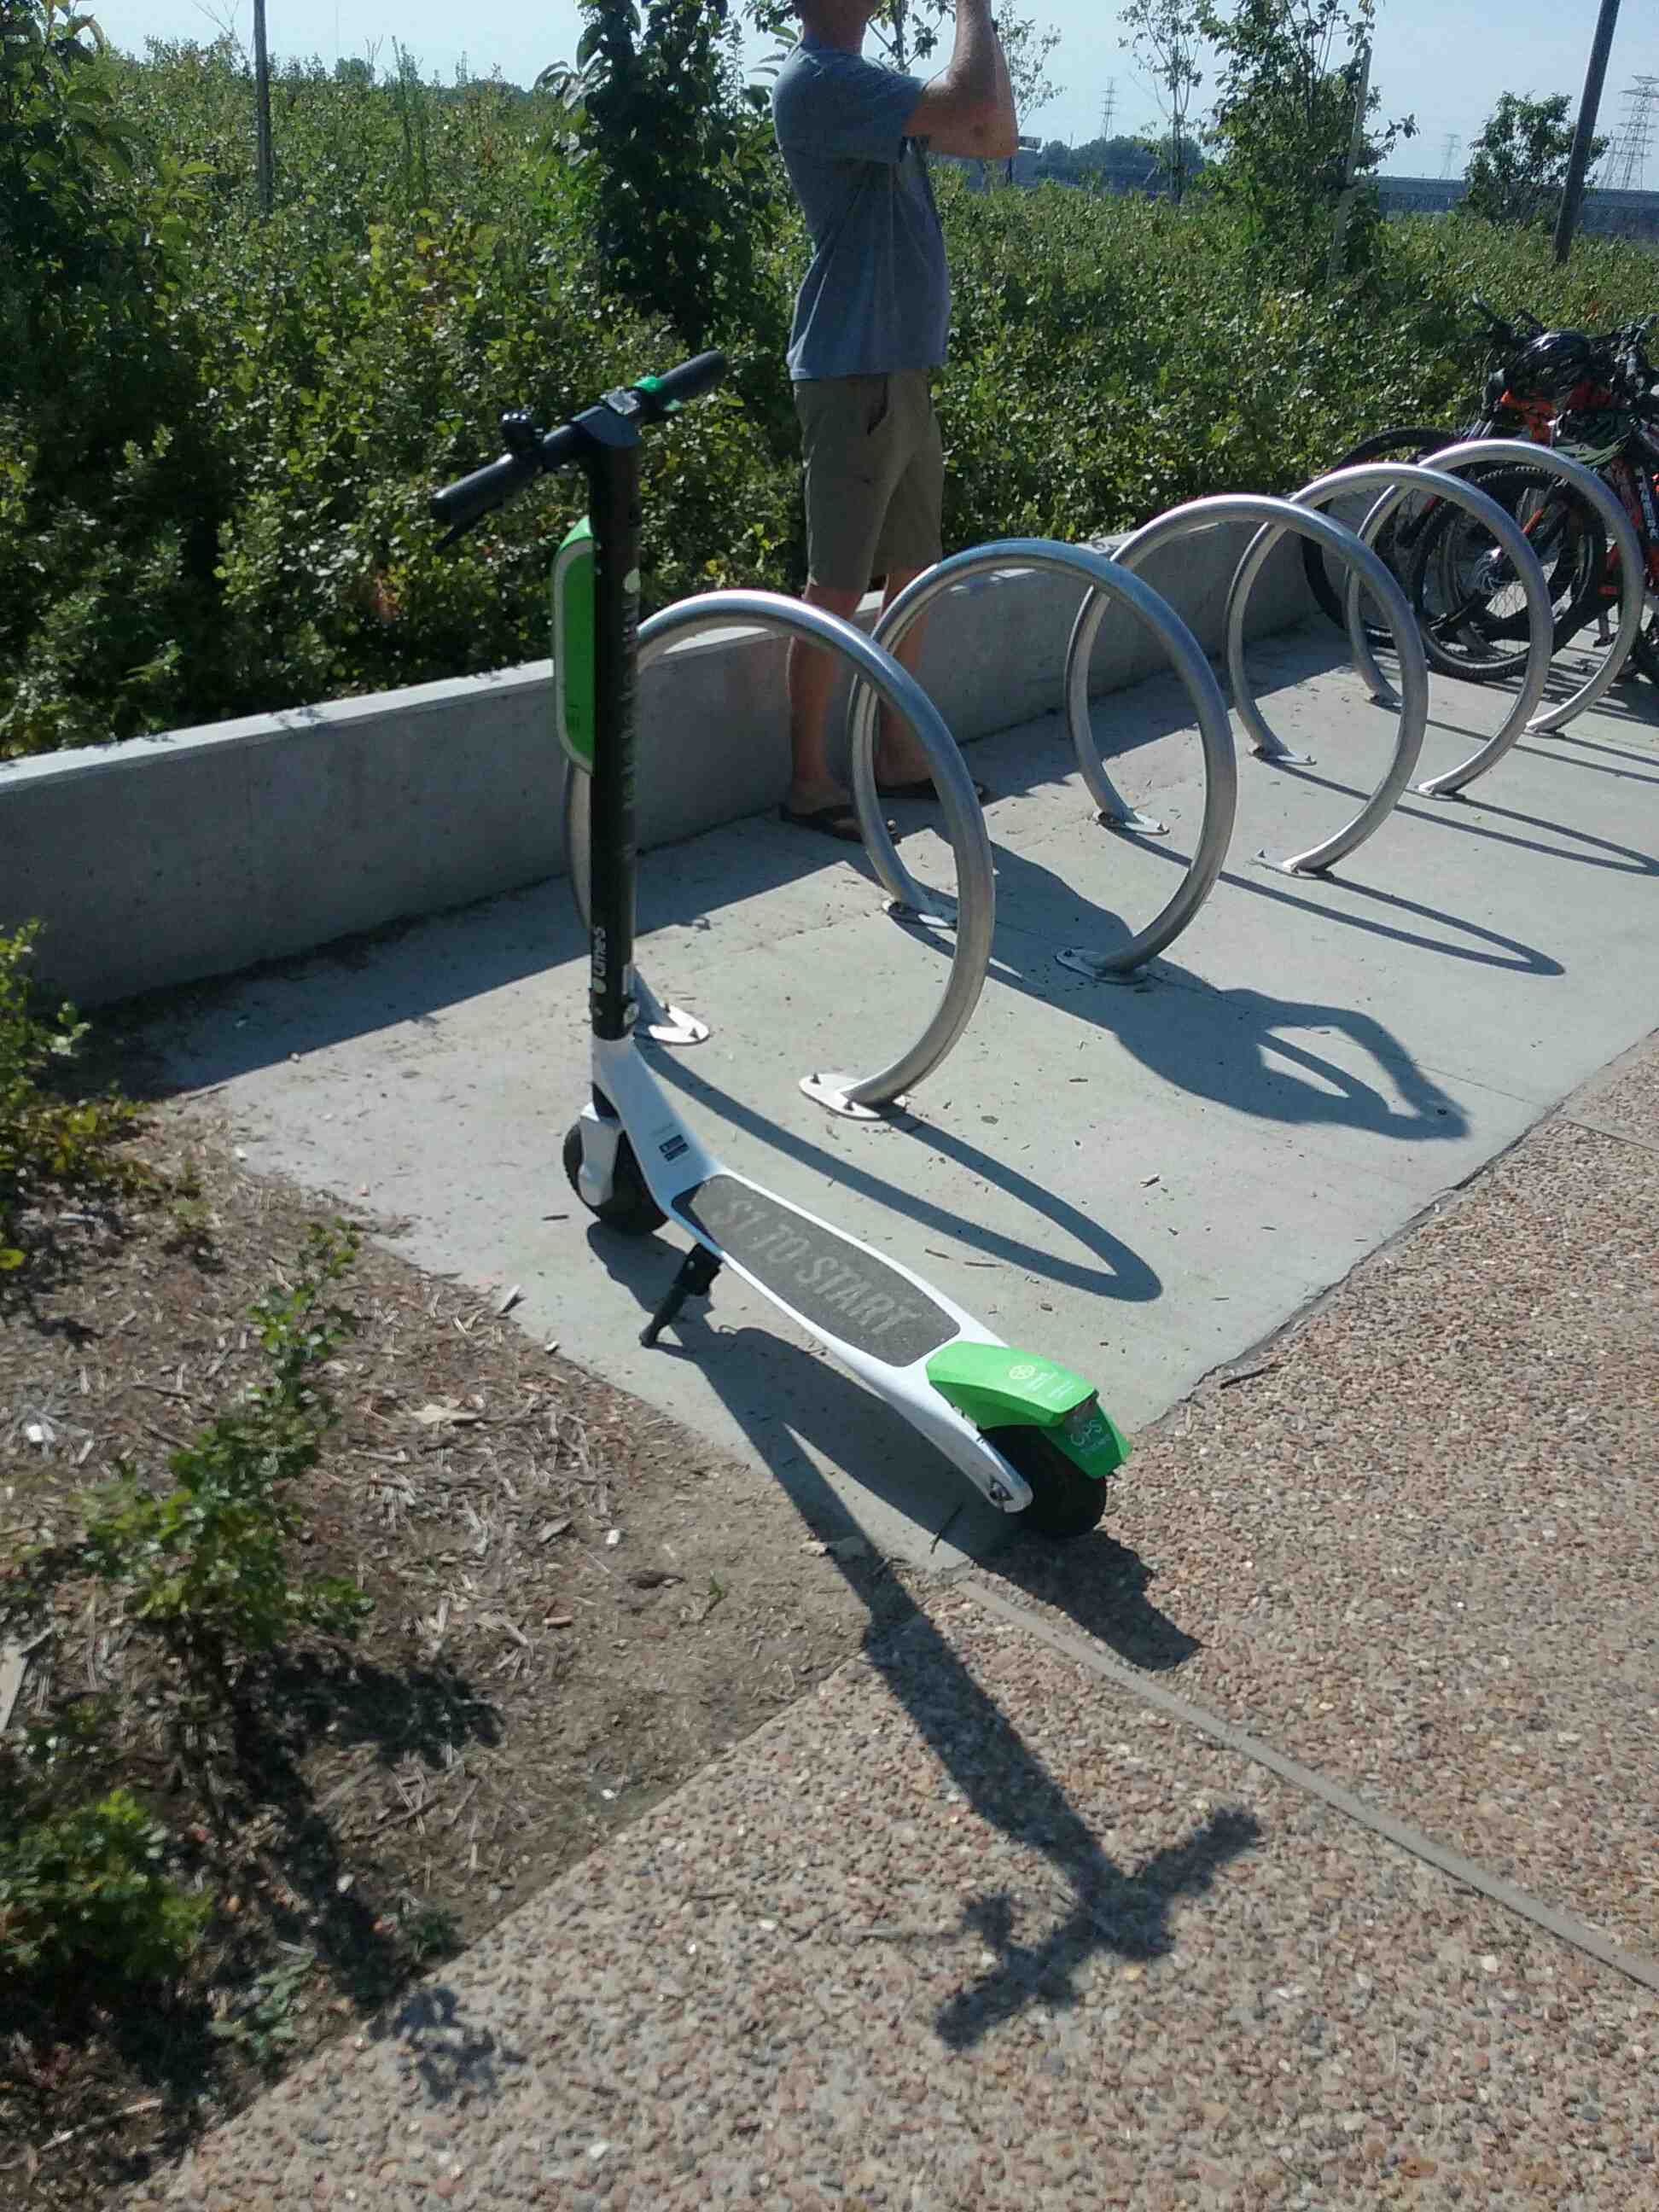scooter: (403, 341, 1133, 1550)
